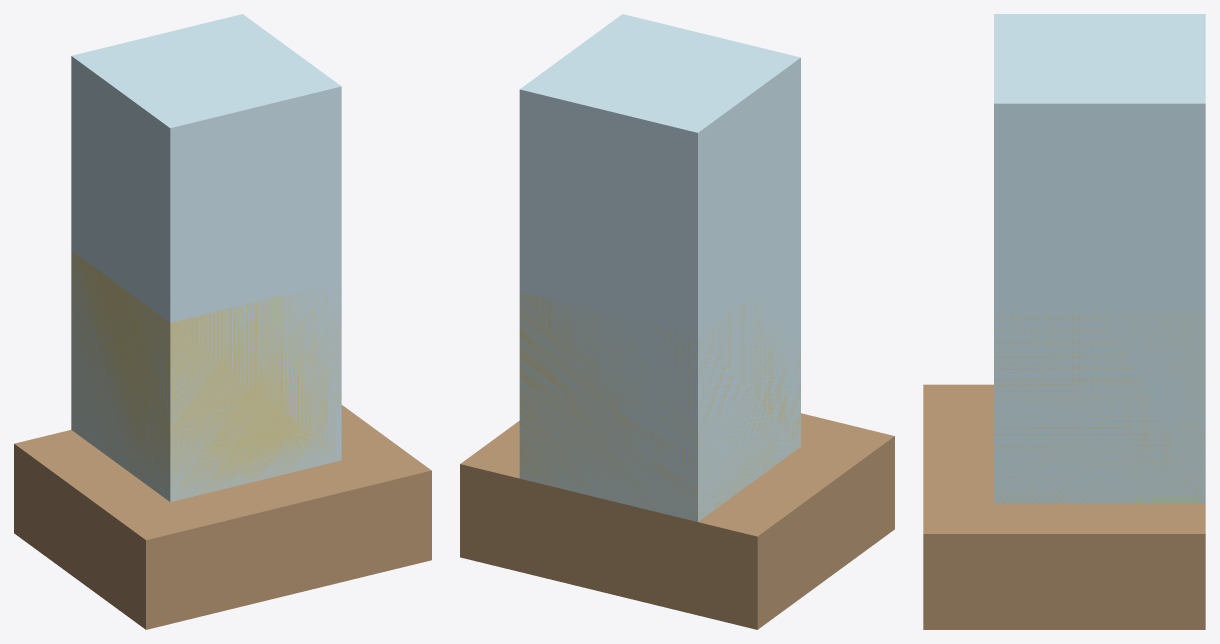
Rendered from Prop_Pet_AMF_Feeder_V1.glb.
The picture shows the model from 3 angles, left to right: view 1: azimuth 30°, elevation 25°; view 2: azimuth 150°, elevation 25°; view 3: azimuth 270°, elevation 25°; orthographic projection. The views are drawn at different scales.
Visible parts, largest first — view 1: Prop_Pet_AMF_Feeder_V1; view 2: Prop_Pet_AMF_Feeder_V1; view 3: Prop_Pet_AMF_Feeder_V1.
Part boxes in pixels (x1,y1,x2,y2): Prop_Pet_AMF_Feeder_V1: (14, 14, 431, 629); Prop_Pet_AMF_Feeder_V1: (460, 14, 894, 629); Prop_Pet_AMF_Feeder_V1: (923, 14, 1205, 629).
Bounding box in the file's own units: 0.5 × 0.7753 × 0.4.
